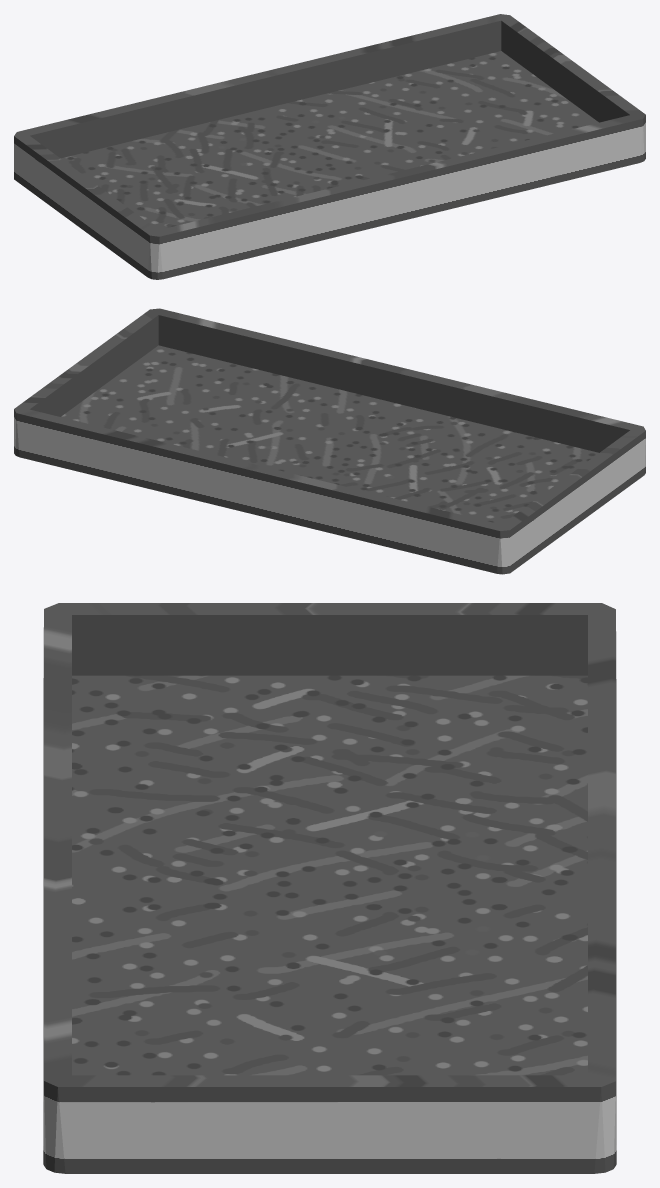
The model's file is PollRoof_lod_2.fbx.
The picture shows the model from 3 angles, top to bottom: view 1: azimuth 30°, elevation 25°; view 2: azimuth 150°, elevation 25°; view 3: azimuth 270°, elevation 25°; orthographic projection. The views are drawn at different scales.
Visible parts, largest first — view 1: PollRoof_lod_2; view 2: PollRoof_lod_2; view 3: PollRoof_lod_2.
Part boxes in pixels (left/top/right/bottom): PollRoof_lod_2: left=14, top=14, right=645, bottom=279; PollRoof_lod_2: left=14, top=308, right=645, bottom=574; PollRoof_lod_2: left=43, top=603, right=616, bottom=1173.
Bounding box in the file's own units: 1200 × 100 × 600.
Materials: 2 (2 with a texture image).
